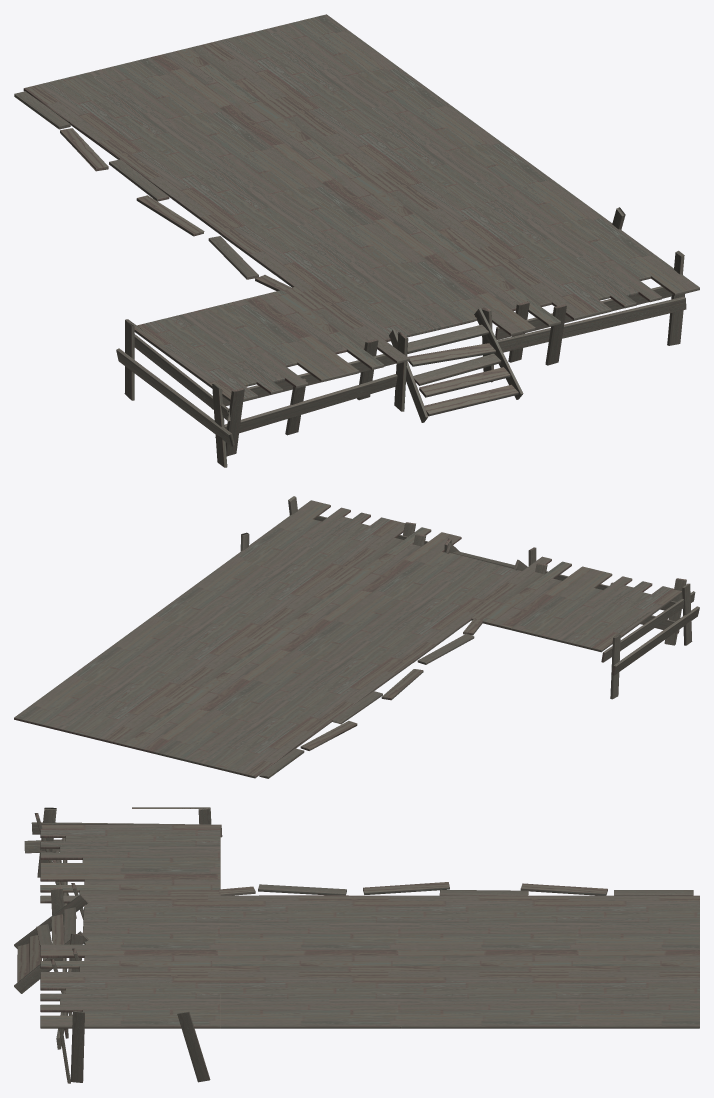
The model's file is shitt_flooring.fbx.
3 renders of one model, top to bottom at view 1: azimuth 30°, elevation 25°; view 2: azimuth 150°, elevation 25°; view 3: azimuth 270°, elevation 25°, orthographic. The views are drawn at different scales.
Parts seen in each view (by area): view 1: Object139; view 2: Object139; view 3: Object139.
Boxes of the visible parts, x1=… form: Object139: x1=14, y1=14, x2=699, y2=467; Object139: x1=14, y1=496, x2=699, y2=778; Object139: x1=14, y1=807, x2=699, y2=1083.
Bounding box in the file's own units: 163 × 27.5 × 225.
